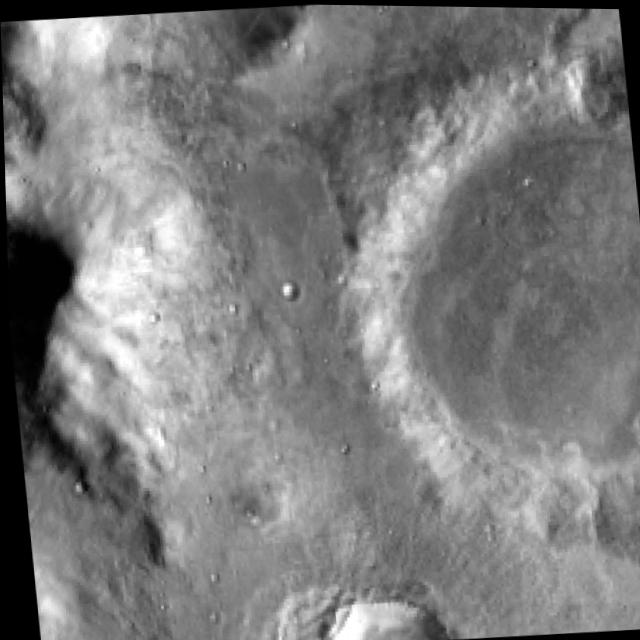Crater: (291, 48, 640, 613), (7, 0, 351, 137), (282, 541, 489, 640)
